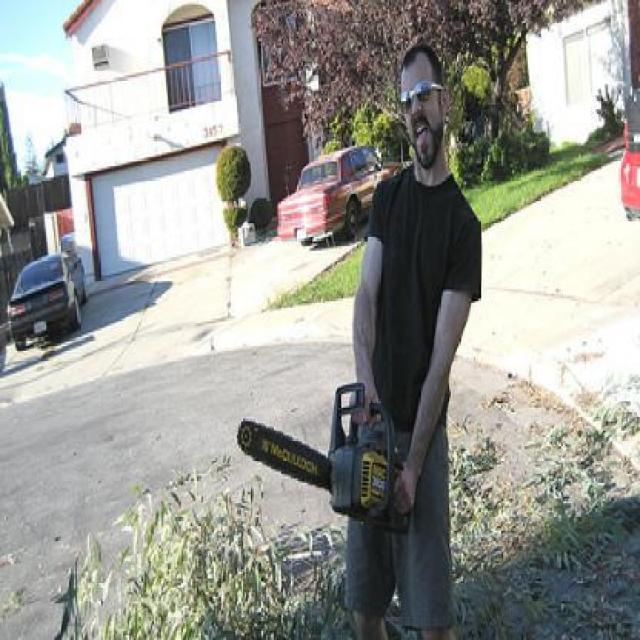Chainsaw: (236, 375, 418, 531)
